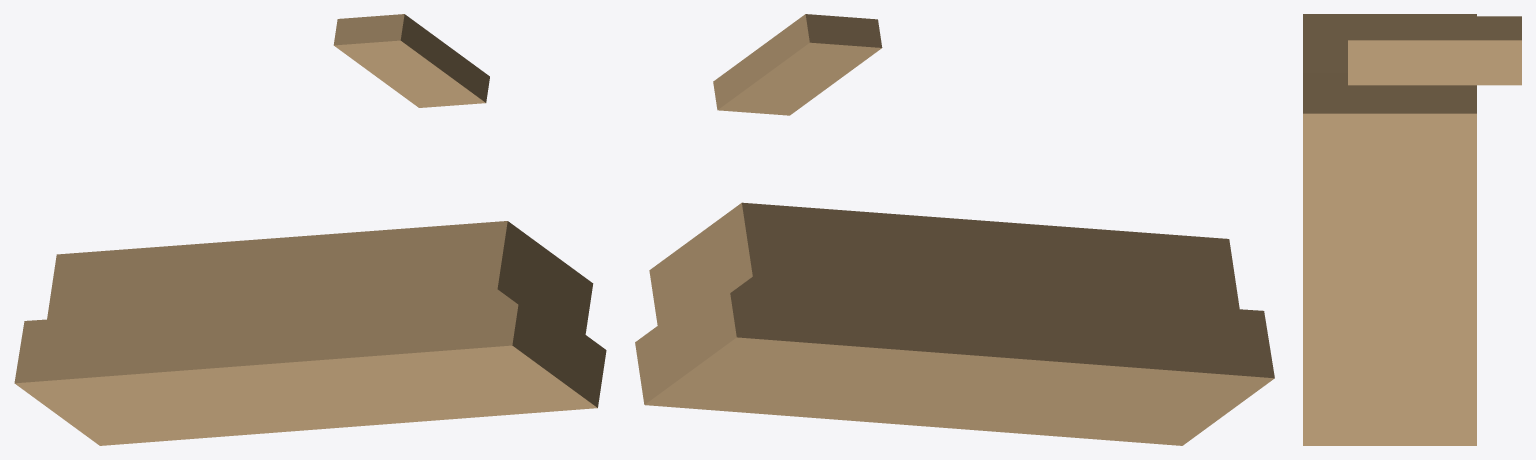
3 views of the same model, side by side, from view 1: azimuth 30°, elevation 25°; view 2: azimuth 150°, elevation 25°; view 3: azimuth 270°, elevation 25° (orthographic). The views are drawn at different scales.
Parts seen in each view (by area): view 1: 0_3_2_3_1_2_1_0; view 2: 0_3_2_3_1_2_1_0; view 3: 0_3_2_3_1_2_1_0.
Part boxes in pixels (<box>): 0_3_2_3_1_2_1_0: <box>14,14,606,445</box>; 0_3_2_3_1_2_1_0: <box>635,14,1274,445</box>; 0_3_2_3_1_2_1_0: <box>1303,14,1521,445</box>.
Size of the model in its own units: 82.06 by 53.82 by 30.19.
